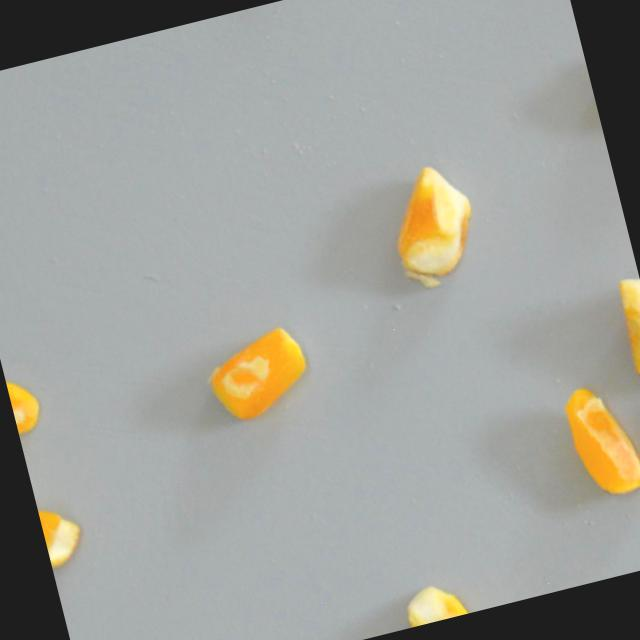pelicula: (375, 151, 490, 296), (193, 318, 318, 429), (555, 368, 640, 507), (26, 456, 85, 567), (394, 569, 485, 629), (607, 265, 640, 396), (3, 365, 50, 449)
